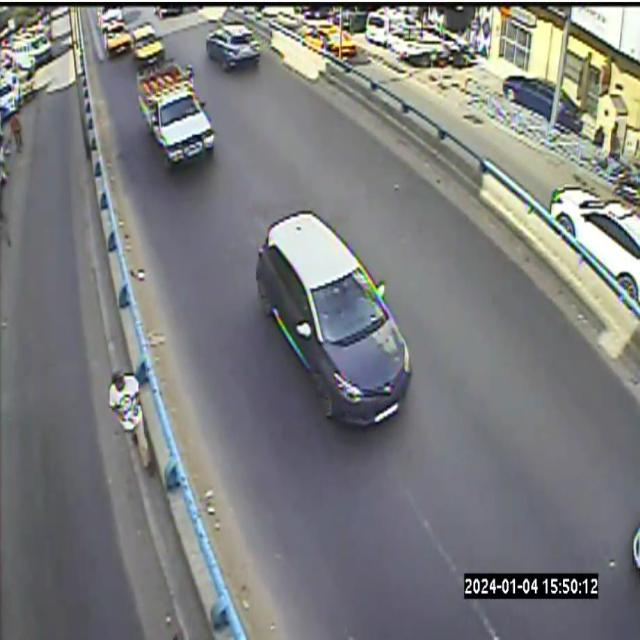car: (256, 211, 412, 424), (136, 59, 214, 166), (207, 22, 260, 71), (132, 22, 163, 65), (104, 20, 132, 56)
